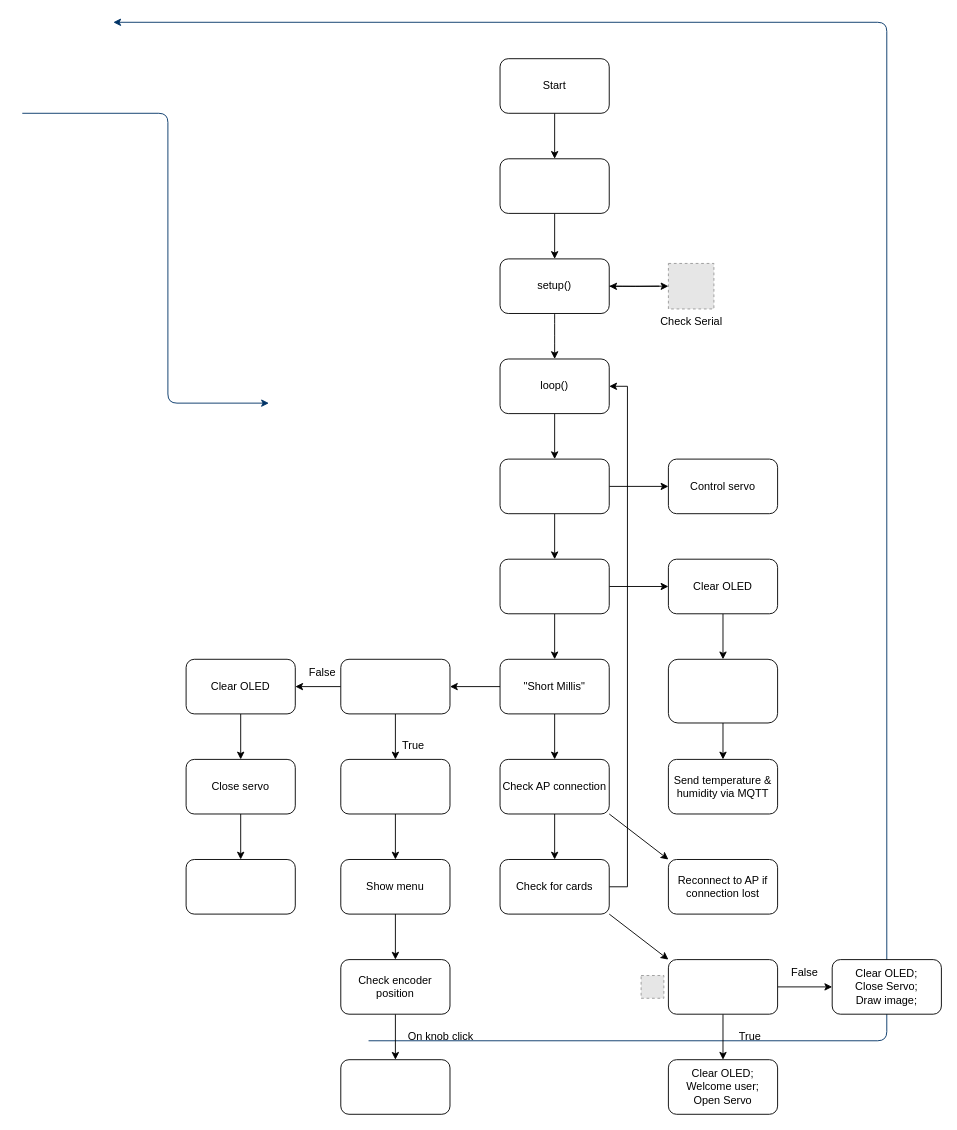
The diagram is 957 pixels wide and 1130 high, and some of its shapes have lost their labels. Grey dashed boxes stand in for pictures. The centre of each missing label's shape, as x and y in pixels:
"Long Milis": pixel 554 586
Authenticated: pixel 395 686
Clear OLED; Get encode position: pixel 395 786
Get temperature & humidity; print instructions; print clock: pixel 722 690
Loop through list of cards: pixel 722 986
MQTT Read: pixel 554 486
Print instructions; Print clock: pixel 240 886
Run specified program for encoder position: pixel 395 1086
Setup variables: pixel 554 185
